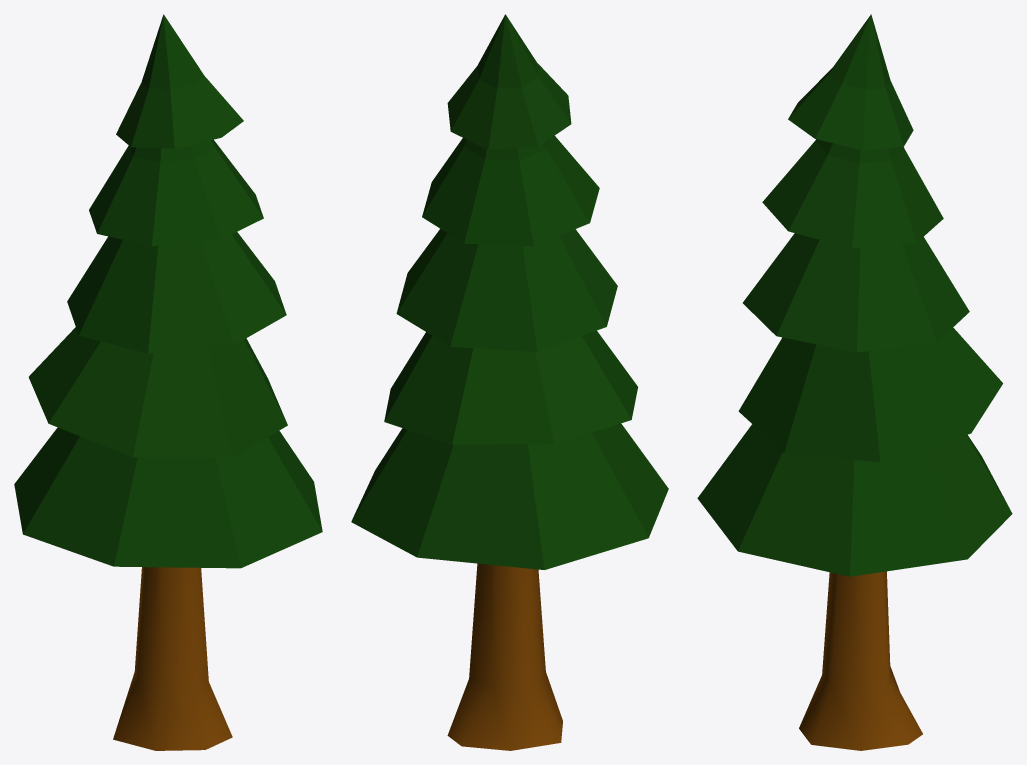
The model's file is Tree.fbx.
3 views of the same model, side by side, from view 1: azimuth 30°, elevation 25°; view 2: azimuth 150°, elevation 25°; view 3: azimuth 270°, elevation 25° (orthographic).
Parts seen in each view (by area): view 1: Tree; view 2: Tree; view 3: Tree.
Part boxes in pixels (x1,y1,x2,y2): Tree: [14, 14, 322, 750]; Tree: [351, 14, 668, 750]; Tree: [697, 14, 1012, 750].
Bounding box in the file's own units: 75.67 × 183 × 73.4.
